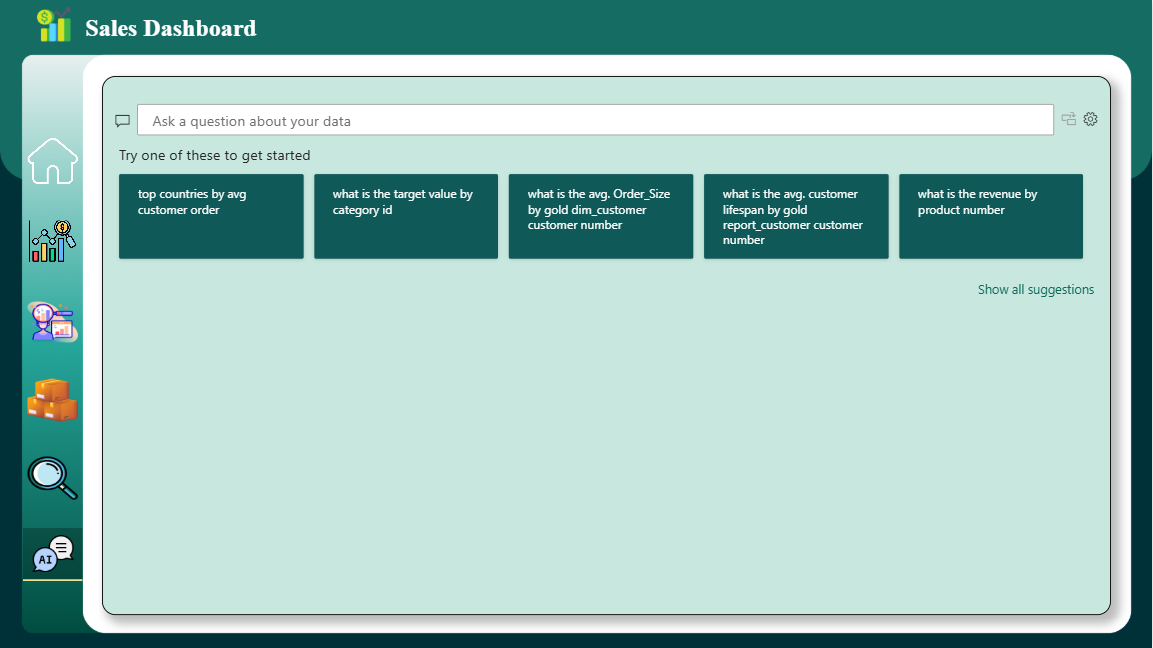

Layout of this report page (visuals, bound fields, positions):
{"tool":"powerbi","page":{"name":"Ask AI","canvas":[1280,720],"ordinal":5},"visuals":[{"type":"group","id":"g1","title":"Group 1","box":[27.8,0,270,54.4],"z":0},{"type":"textbox","title":"Sales Dashboard","box":[82.2,15.6,215.6,38.9],"z":0,"group":"g1"},{"type":"image","box":[27.8,0,63.3,54.4],"z":1000,"group":"g1"},{"type":"qnaVisual","box":[113.8,84.6,1121.5,599.1],"z":1000},{"type":"image","box":[25,328,66,60],"z":2000},{"type":"image","box":[25,416,66,58],"z":3000},{"type":"shape","box":[25,635,66,18],"z":4000},{"type":"image","box":[25,502,66,58],"z":5000},{"type":"image","box":[25,587,66,57],"z":6000},{"type":"image","box":[25,148,66,62],"z":7000},{"type":"image","box":[25,240,66,56],"z":8000}]}

Visuals, with their boxes in screenshot pixels (x1, y1, x2, y2), scaled from the page's 1280x720 canvas onto the 1153x648 screenshot:
"Group 1" group: box(25, 0, 268, 49)
"Sales Dashboard" textbox: box(74, 14, 268, 49)
image: box(25, 0, 82, 49)
qnaVisual: box(103, 76, 1113, 615)
image: box(23, 295, 82, 349)
image: box(23, 374, 82, 427)
shape: box(23, 572, 82, 588)
image: box(23, 452, 82, 504)
image: box(23, 528, 82, 580)
image: box(23, 133, 82, 189)
image: box(23, 216, 82, 266)
